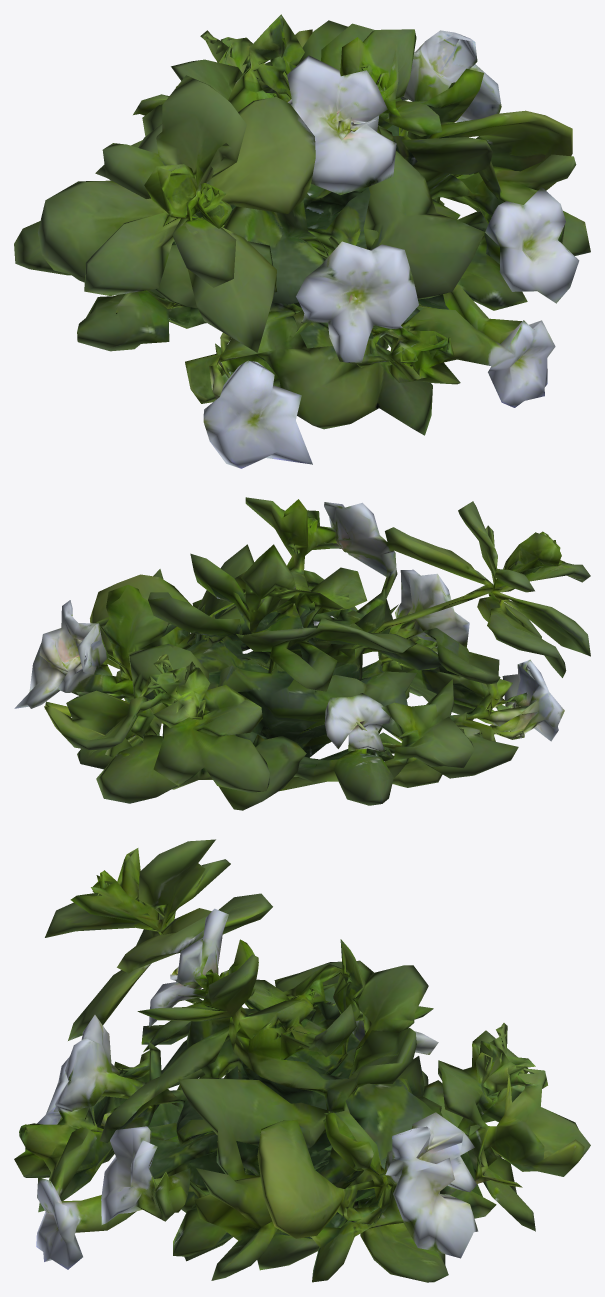
The model's file is brahmi_1752660022307.glb.
The picture shows the model from 3 angles, top to bottom: view 1: azimuth 30°, elevation 25°; view 2: azimuth 150°, elevation 25°; view 3: azimuth 270°, elevation 25°; orthographic projection. The views are drawn at different scales.
Size of the model in its own units: 2.01 by 1.16 by 1.92.
Materials: 1 (1 with a texture image).
